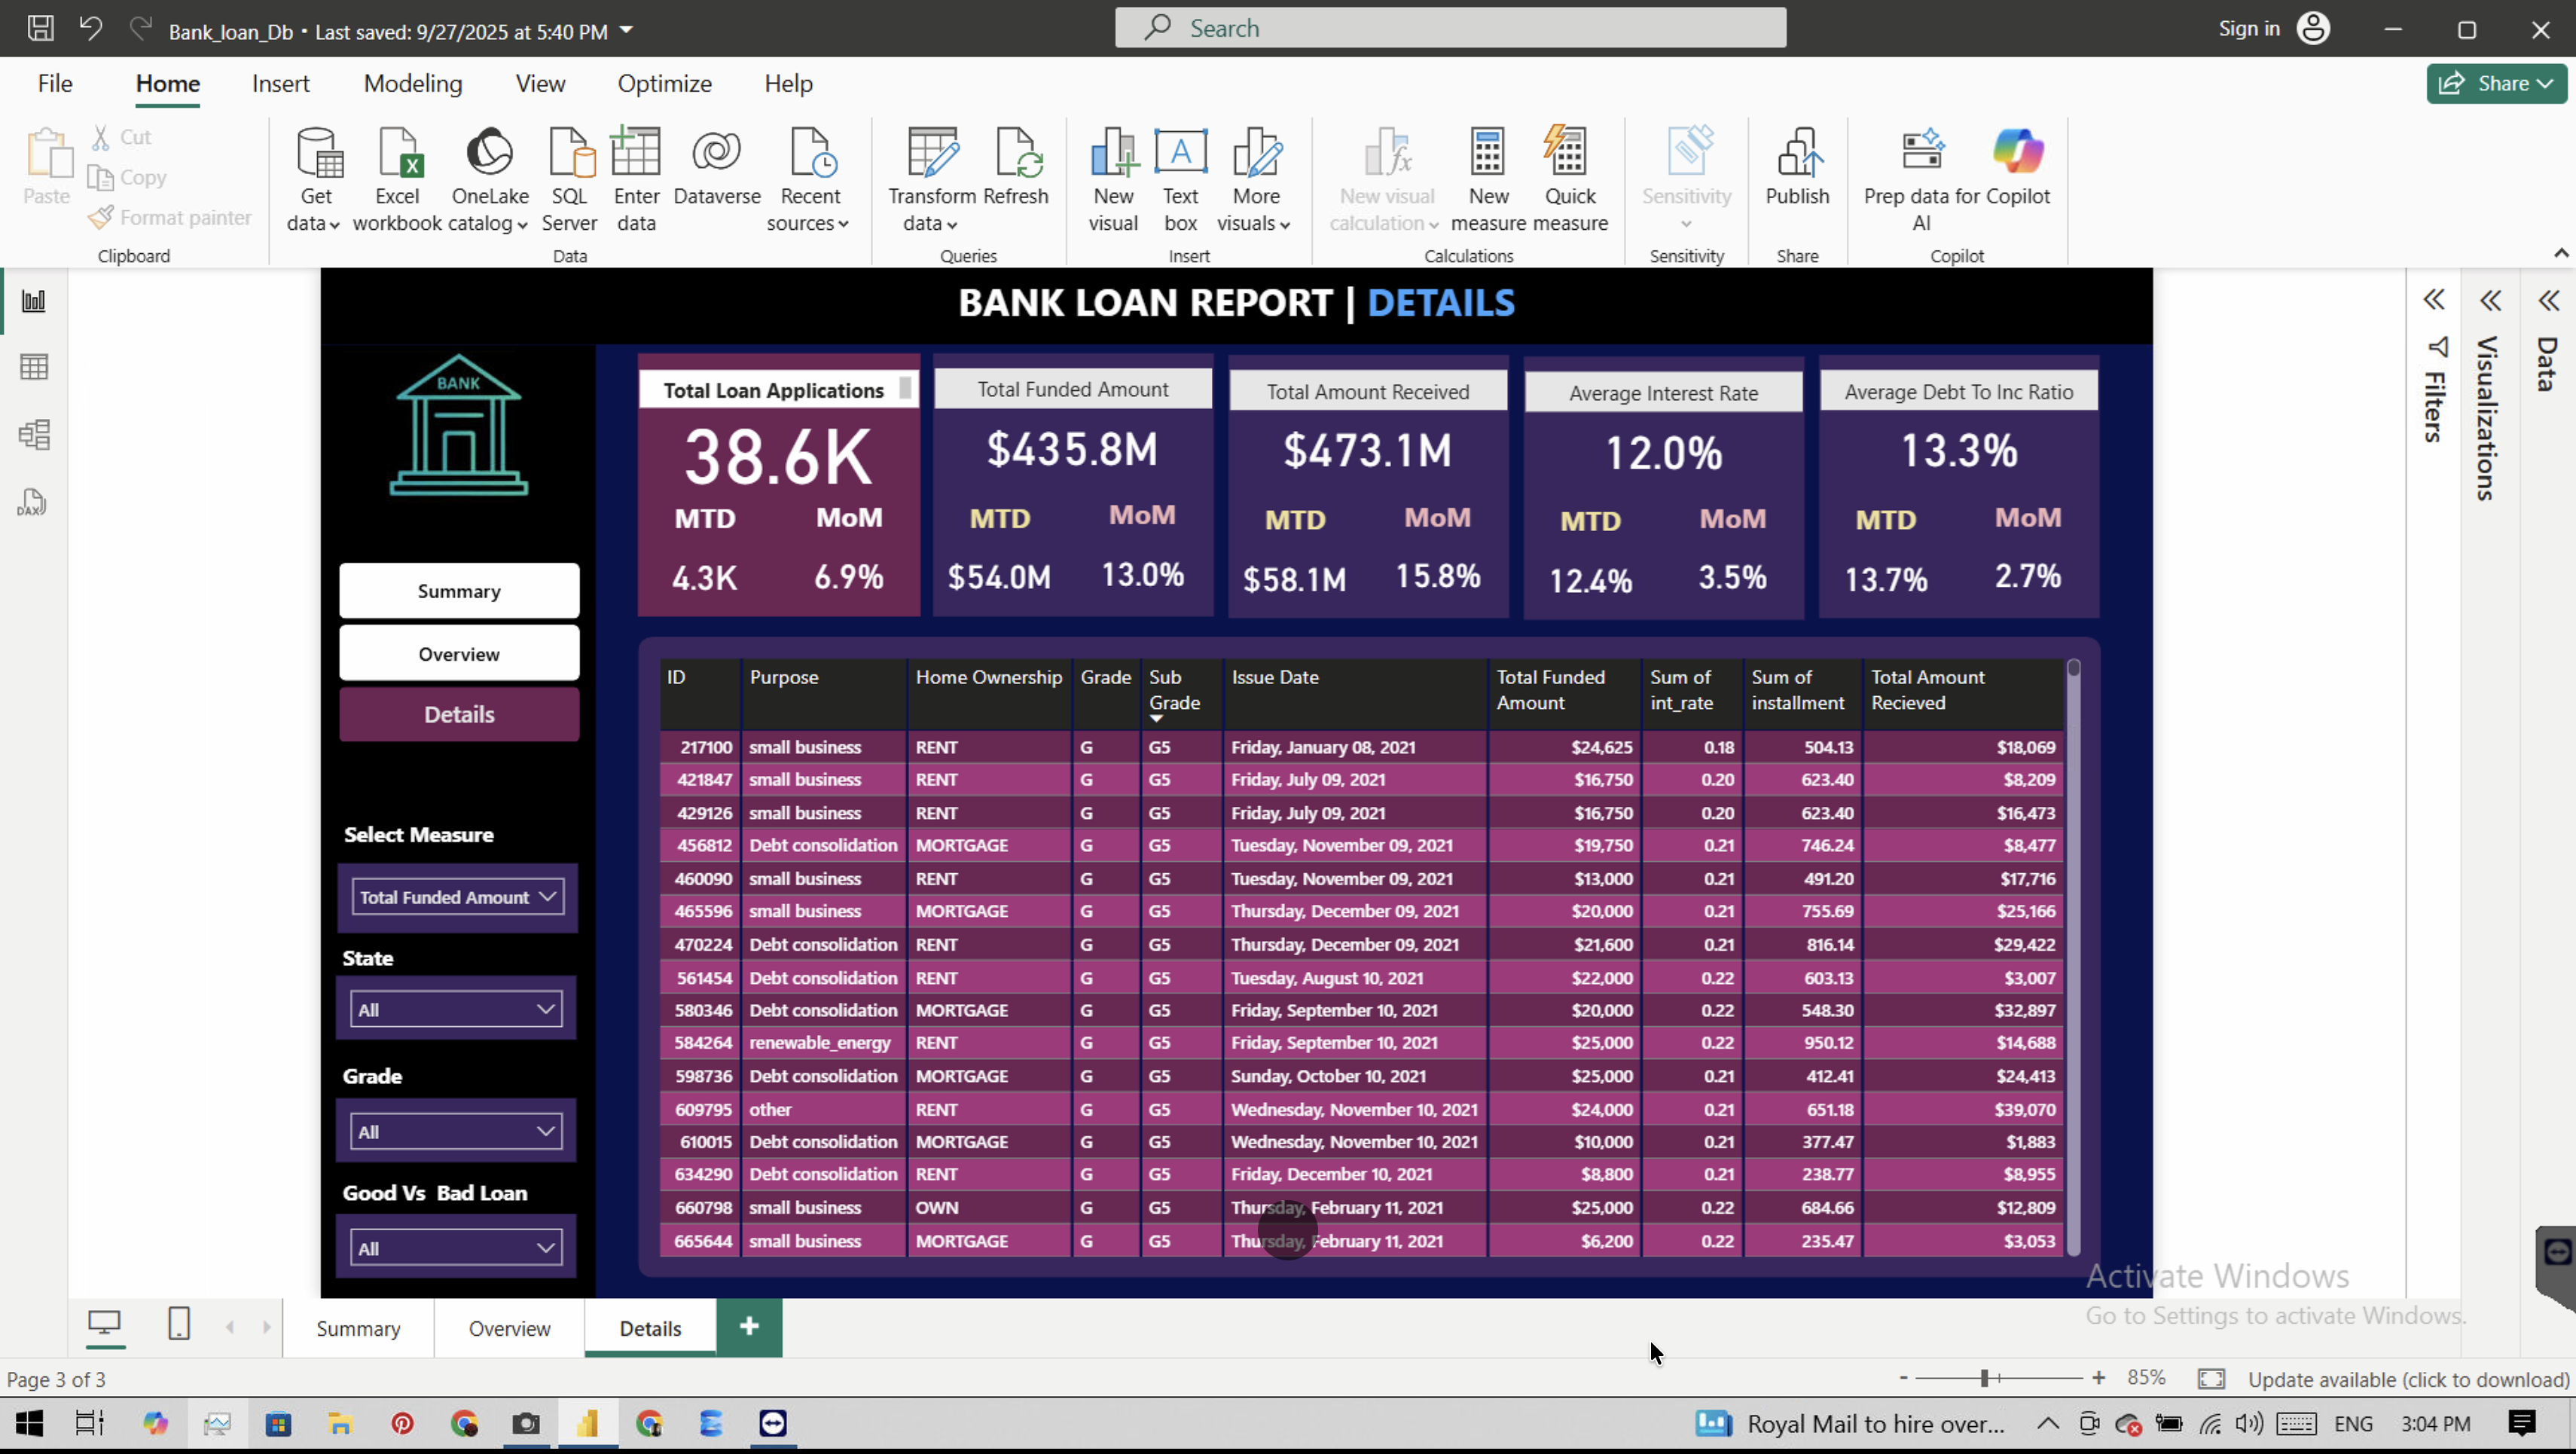

What the dashboard file says about the page in this screenshot:
{"tool":"powerbi","page":{"name":"Details","canvas":[1280,720],"ordinal":2},"visuals":[{"type":"shape","box":[221.7,59.3,197.4,183.9],"z":0,"group":"g1"},{"type":"shape","box":[428.3,59.9,196.2,183.9],"z":0,"group":"g2"},{"type":"shape","box":[633.7,60.5,196.2,183.9],"z":0,"group":"g3"},{"type":"shape","box":[1046.4,61.3,196.2,183.9],"z":0,"group":"g5"},{"type":"shape","box":[839.8,61.9,196.2,183.9],"z":0,"group":"g4"},{"type":"shape","box":[221.5,257.8,1021.9,447.7],"z":0,"group":"g6"},{"type":"shape","box":[0,0,1280.3,53.5],"z":1000},{"type":"card","fields":{"Values":["financial_loans_clean.Total Loan Applications"]},"box":[230.3,89.4,179.3,70.3],"z":1000,"group":"g1"},{"type":"card","fields":{"Values":["financial_loans_clean.Total Funded Amount"]},"box":[439,89.6,174.3,70],"z":1000,"group":"g2"},{"type":"card","fields":{"Values":["financial_loans_clean.Total Amount Recieved"]},"box":[644.4,90.2,174.3,70],"z":1000,"group":"g3"},{"type":"card","fields":{"Values":["financial_loans_clean.Average DtI"]},"box":[1057.1,91,174.3,70],"z":1000,"group":"g5"},{"type":"card","fields":{"Values":["financial_loans_clean.Average Int Rate"]},"box":[850.5,91.6,174.3,70],"z":1000,"group":"g4"},{"type":"shape","box":[0,53.5,192.1,666.9],"z":2000},{"type":"textbox","box":[429.7,70.9,193.5,28],"z":2000,"group":"g2"},{"type":"textbox","box":[222.9,71.4,195,26.7],"z":2000,"group":"g1"},{"type":"textbox","box":[635.1,71.5,193.5,28],"z":2000,"group":"g3"},{"type":"textbox","box":[1047.8,72.3,193.5,28],"z":2000,"group":"g5"},{"type":"textbox","box":[841.2,72.9,193.5,28],"z":2000,"group":"g4"},{"type":"textbox","box":[418.4,0,443,53.9],"z":3000},{"type":"card","title":"MTD","fields":{"Values":["financial_loans_clean.MTD Loan Applications"]},"box":[221.7,160.9,93.9,83.7],"z":3000,"group":"g1"},{"type":"card","title":"MTD","fields":{"Values":["financial_loans_clean.MTD Funded Amount"]},"box":[428.3,161.4,93.3,83.7],"z":3000,"group":"g2"},{"type":"card","title":"MTD","fields":{"Values":["financial_loans_clean.MTD Total Amount Received"]},"box":[633.7,162,93.3,83.7],"z":3000,"group":"g3"},{"type":"card","title":"MTD","fields":{"Values":["financial_loans_clean.MTD Debt To Income Ratio"]},"box":[1046.4,162.8,93.3,83.7],"z":3000,"group":"g5"},{"type":"card","title":"MTD","fields":{"Values":["financial_loans_clean.MTD Int Rate"]},"box":[839.8,163.4,93.3,83.7],"z":3000,"group":"g4"},{"type":"group","id":"g1","title":"Group 1","box":[221.7,59.3,197.4,185.3],"z":4000},{"type":"card","title":"MoM","fields":{"Values":["financial_loans_clean.MoM Loan Applications"]},"box":[322.5,159.5,93.9,83.7],"z":4000,"group":"g1"},{"type":"card","title":"MoM","fields":{"Values":["financial_loans_clean.MoMFunded Amount"]},"box":[528.5,160.1,93.3,83.7],"z":4000,"group":"g2"},{"type":"card","title":"MoM","fields":{"Values":["financial_loans_clean.MoM Amount Received"]},"box":[733.9,160.7,93.3,83.7],"z":4000,"group":"g3"},{"type":"card","title":"MoM","fields":{"Values":["financial_loans_clean.MoM AVG DtI"]},"box":[1146.6,161.5,93.3,83.7],"z":4000,"group":"g5"},{"type":"card","title":"MoM","fields":{"Values":["financial_loans_clean.MoM AVG INT RATE"]},"box":[940,162.1,93.3,83.7],"z":4000,"group":"g4"},{"type":"group","id":"g2","title":"Group 1","box":[428.3,59.9,196.2,185.2],"z":5000},{"type":"group","id":"g3","title":"Group 1","box":[633.7,60.5,196.9,185.2],"z":6000},{"type":"group","id":"g4","title":"Group 1","box":[839.8,61.9,197.4,184.1],"z":7000},{"type":"group","id":"g5","title":"Group 1","box":[1046.4,61.3,197.4,184.1],"z":8000},{"type":"slicer","title":"efve","fields":{"Values":["financial_loans_clean.address_state"]},"box":[10.9,495.1,168.4,44.8],"z":9000},{"type":"textbox","box":[10.9,466,98.1,30.3],"z":10000},{"type":"slicer","fields":{"Values":["financial_loans_clean.grade"]},"box":[10.9,579.8,168.4,44.8],"z":11000},{"type":"textbox","box":[10.9,549.6,98.1,30.3],"z":12000},{"type":"slicer","fields":{"Values":["financial_loans_clean.Good vs Bad Loan"]},"box":[10.9,661,168.4,44.8],"z":13000},{"type":"textbox","box":[10.5,630.5,154.7,30.5],"z":14000},{"type":"slicer","fields":{"Values":["Parameter.Parameter"]},"box":[12.1,415.4,168.4,48.4],"z":15000},{"type":"textbox","box":[12.1,380.3,141.7,30.3],"z":16000},{"type":"group","id":"g6","title":"Group 2","box":[221.5,257.8,1021.9,447.7],"z":18000},{"type":"image","box":[12.9,38.7,167.6,141.8],"z":18001},{"type":"tableEx","fields":{"Values":["financial_loans_clean.id","financial_loans_clean.purpose","financial_loans_clean.home_ownership","financial_loans_clean.grade","financial_loans_clean.sub_grade","financial_loans_clean.issue_date","financial_loans_clean.Total Funded Amount","Sum(financial_loans_clean.int_rate)","Sum(financial_loans_clean.installment)","financial_loans_clean.Total Amount Recieved"]},"box":[230.3,268.6,1003.1,427.7],"z":18001,"group":"g6"},{"type":"pageNavigator","box":[12.9,206.3,168.8,125.4],"z":18002}]}

Visuals, with their boxes on the page's 1280x720 design canvas (x1, y1, x2, y2). These are canvas units, not pixel positions in the 2576x1454 screenshot, which may show the page scaled, cropped or inside an application window:
shape: {"left": 222, "top": 59, "right": 419, "bottom": 243}
shape: {"left": 428, "top": 60, "right": 624, "bottom": 244}
shape: {"left": 634, "top": 60, "right": 830, "bottom": 244}
shape: {"left": 1046, "top": 61, "right": 1243, "bottom": 245}
shape: {"left": 840, "top": 62, "right": 1036, "bottom": 246}
shape: {"left": 222, "top": 258, "right": 1243, "bottom": 706}
shape: {"left": 0, "top": 0, "right": 1280, "bottom": 54}
card - financial_loans_clean.Total Loan Applications: {"left": 230, "top": 89, "right": 410, "bottom": 160}
card - financial_loans_clean.Total Funded Amount: {"left": 439, "top": 90, "right": 613, "bottom": 160}
card - financial_loans_clean.Total Amount Recieved: {"left": 644, "top": 90, "right": 819, "bottom": 160}
card - financial_loans_clean.Average DtI: {"left": 1057, "top": 91, "right": 1231, "bottom": 161}
card - financial_loans_clean.Average Int Rate: {"left": 850, "top": 92, "right": 1025, "bottom": 162}
shape: {"left": 0, "top": 54, "right": 192, "bottom": 720}
textbox: {"left": 430, "top": 71, "right": 623, "bottom": 99}
textbox: {"left": 223, "top": 71, "right": 418, "bottom": 98}
textbox: {"left": 635, "top": 72, "right": 829, "bottom": 100}
textbox: {"left": 1048, "top": 72, "right": 1241, "bottom": 100}
textbox: {"left": 841, "top": 73, "right": 1035, "bottom": 101}
textbox: {"left": 418, "top": 0, "right": 861, "bottom": 54}
"MTD" card: {"left": 222, "top": 161, "right": 316, "bottom": 245}
"MTD" card: {"left": 428, "top": 161, "right": 522, "bottom": 245}
"MTD" card: {"left": 634, "top": 162, "right": 727, "bottom": 246}
"MTD" card: {"left": 1046, "top": 163, "right": 1140, "bottom": 246}
"MTD" card: {"left": 840, "top": 163, "right": 933, "bottom": 247}
"Group 1" group: {"left": 222, "top": 59, "right": 419, "bottom": 245}
"MoM" card: {"left": 322, "top": 160, "right": 416, "bottom": 243}
"MoM" card: {"left": 528, "top": 160, "right": 622, "bottom": 244}
"MoM" card: {"left": 734, "top": 161, "right": 827, "bottom": 244}
"MoM" card: {"left": 1147, "top": 162, "right": 1240, "bottom": 245}
"MoM" card: {"left": 940, "top": 162, "right": 1033, "bottom": 246}
"Group 1" group: {"left": 428, "top": 60, "right": 624, "bottom": 245}
"Group 1" group: {"left": 634, "top": 60, "right": 831, "bottom": 246}
"Group 1" group: {"left": 840, "top": 62, "right": 1037, "bottom": 246}
"Group 1" group: {"left": 1046, "top": 61, "right": 1244, "bottom": 245}
"efve" slicer: {"left": 11, "top": 495, "right": 179, "bottom": 540}
textbox: {"left": 11, "top": 466, "right": 109, "bottom": 496}
slicer - financial_loans_clean.grade: {"left": 11, "top": 580, "right": 179, "bottom": 625}
textbox: {"left": 11, "top": 550, "right": 109, "bottom": 580}
slicer - financial_loans_clean.Good vs Bad Loan: {"left": 11, "top": 661, "right": 179, "bottom": 706}
textbox: {"left": 10, "top": 630, "right": 165, "bottom": 661}
slicer - Parameter.Parameter: {"left": 12, "top": 415, "right": 180, "bottom": 464}
textbox: {"left": 12, "top": 380, "right": 154, "bottom": 411}
"Group 2" group: {"left": 222, "top": 258, "right": 1243, "bottom": 706}
image: {"left": 13, "top": 39, "right": 180, "bottom": 180}
tableEx - financial_loans_clean.id x financial_loans_clean.purpose: {"left": 230, "top": 269, "right": 1233, "bottom": 696}
pageNavigator: {"left": 13, "top": 206, "right": 182, "bottom": 332}
